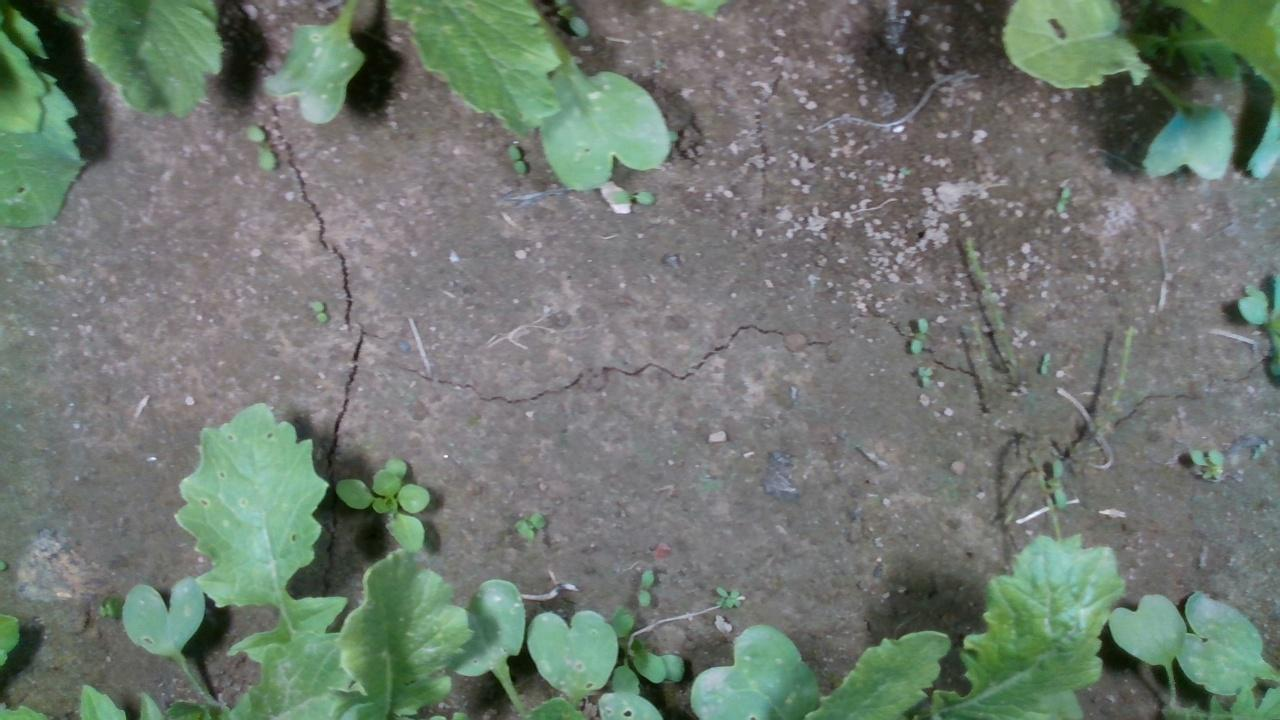weed: (245, 125, 277, 172), (509, 508, 547, 541), (609, 186, 658, 205), (634, 566, 655, 607), (907, 314, 927, 353), (505, 142, 525, 175), (915, 363, 935, 391), (1054, 182, 1071, 214), (309, 298, 327, 323), (1038, 349, 1052, 374)
